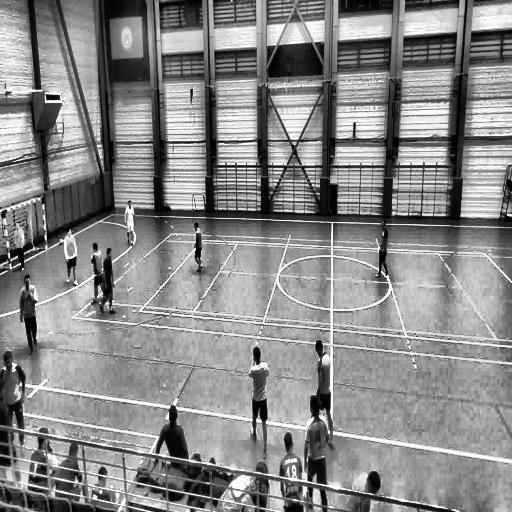ball: (58, 237, 64, 246)
player: (304, 395, 331, 511), (2, 358, 27, 456), (250, 347, 269, 458), (278, 432, 304, 512), (20, 273, 38, 351), (99, 247, 116, 315), (375, 219, 389, 281), (64, 228, 79, 284), (14, 222, 25, 271), (124, 201, 135, 248), (194, 221, 203, 274)
